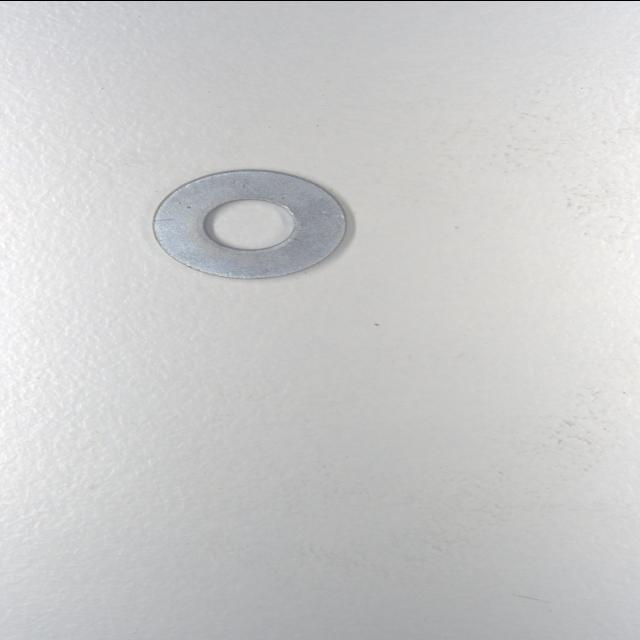washer: (150, 168, 348, 280)
